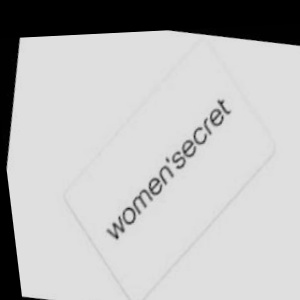women_secret: (97, 69, 300, 141)
